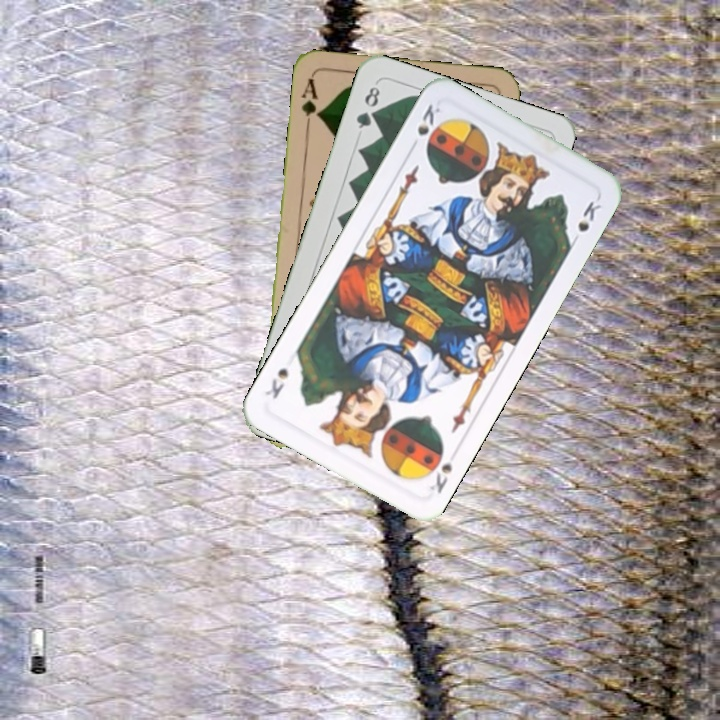G8: (352, 79, 383, 131)
GA: (297, 74, 323, 133)
SK: (406, 100, 443, 153), (426, 459, 455, 496)
